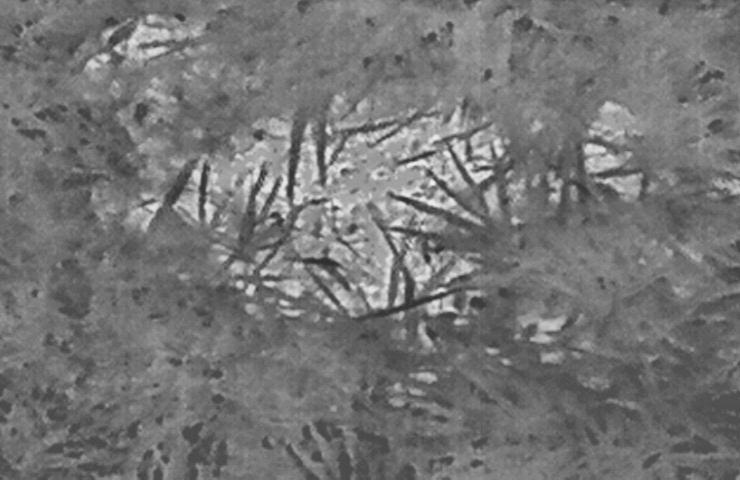landmines: (157, 86, 542, 357)
